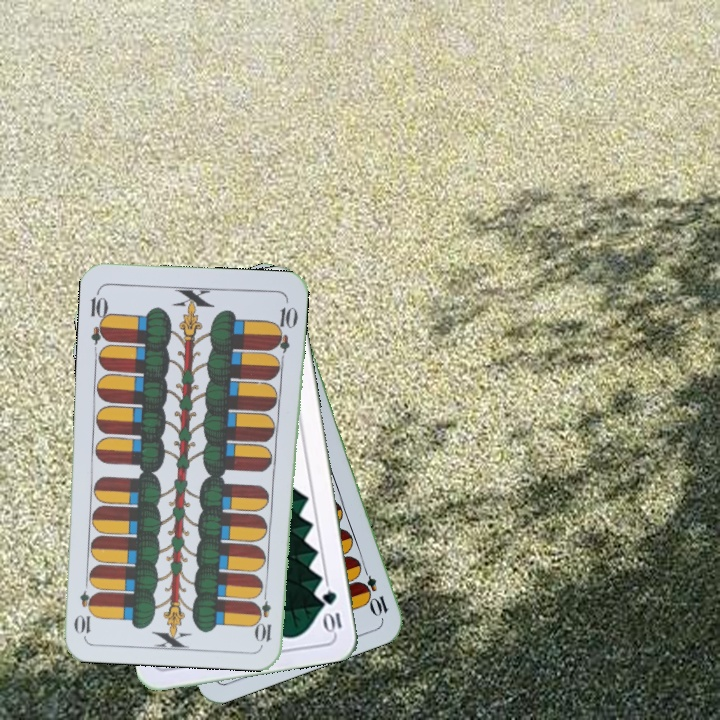E10: (356, 561, 391, 618), (86, 287, 112, 346), (255, 585, 274, 644)
G10: (318, 586, 344, 636)
